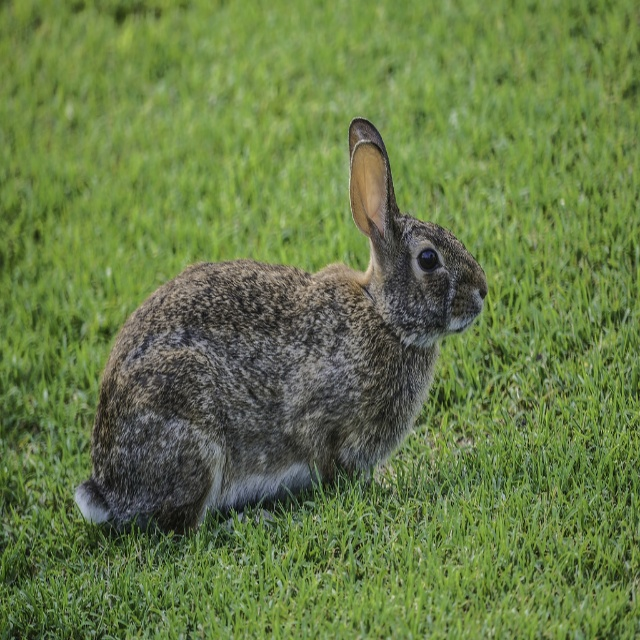Rabbit: (72, 117, 488, 536)
